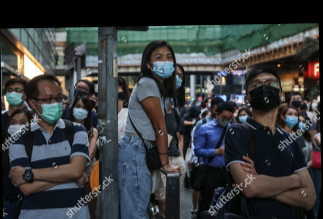with_mask: (247, 75, 282, 112), (37, 91, 66, 124), (151, 51, 175, 78), (5, 87, 26, 106), (8, 118, 29, 137), (73, 102, 90, 121), (284, 111, 300, 129), (74, 84, 91, 100), (218, 113, 235, 128), (173, 69, 185, 90), (291, 96, 304, 109), (298, 118, 309, 133), (238, 111, 250, 124)
